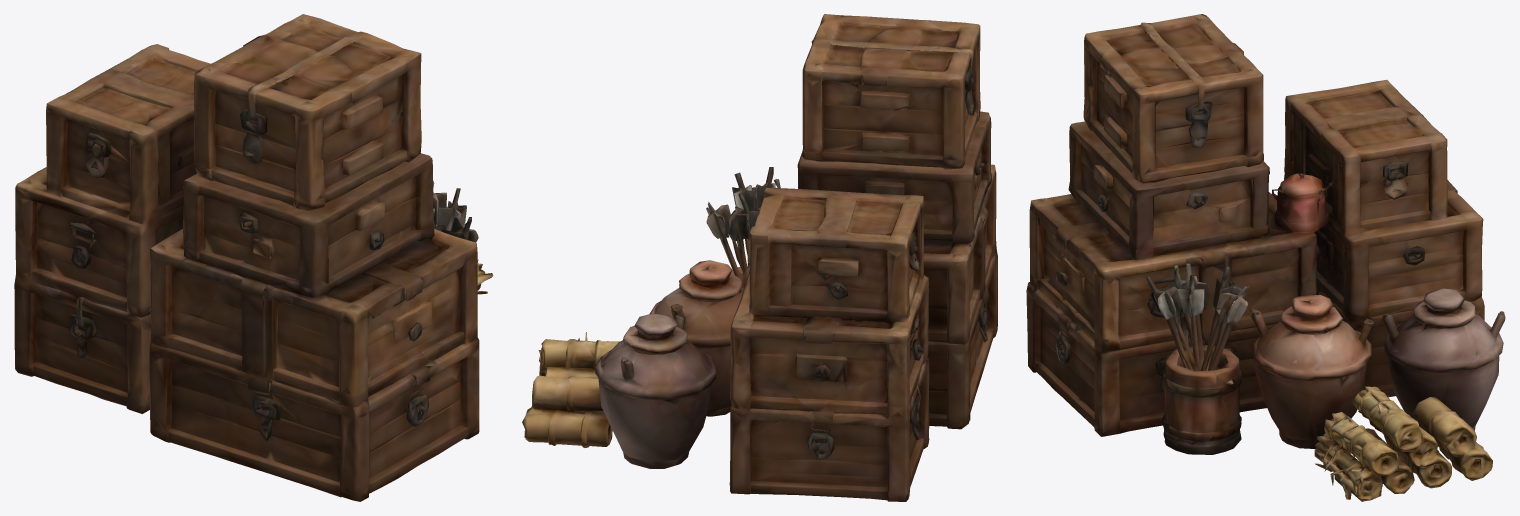
File: supplies-low.glb
3 renders of one model, left to right at view 1: azimuth 30°, elevation 25°; view 2: azimuth 150°, elevation 25°; view 3: azimuth 270°, elevation 25°, orthographic. The views are drawn at different scales.
Size of the model in its own units: 0.9348 by 0.7569 by 0.9952.
1 material, 1 textured.
